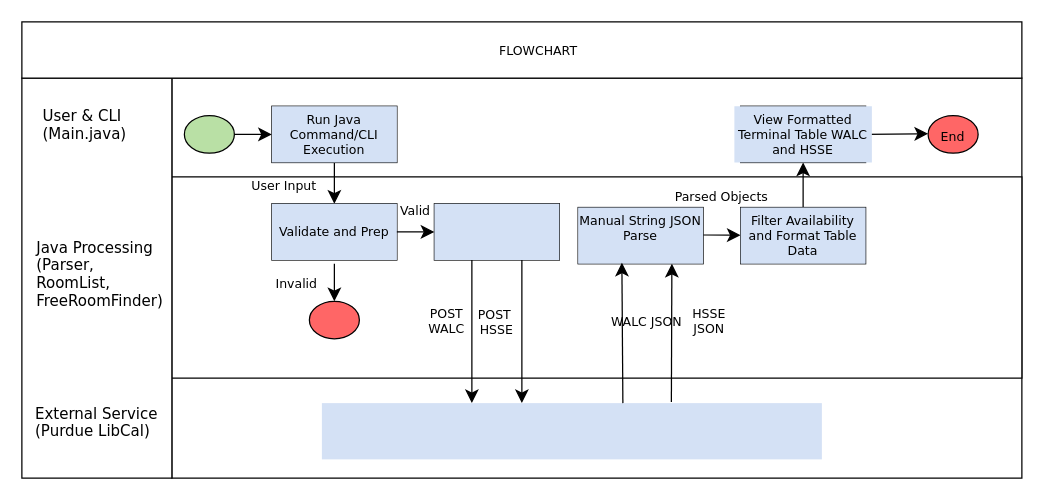
Some shapes in this 1044 by 503 pixel diagram are drawn without their labels. The centre of each missing label's shape, as x and y in pixels:
Error End: [333,319]
HttpClient Sends HTTP POST Requests: [496,231]
LibCal Grid Endpoint: [571,430]
Start: [208,133]
